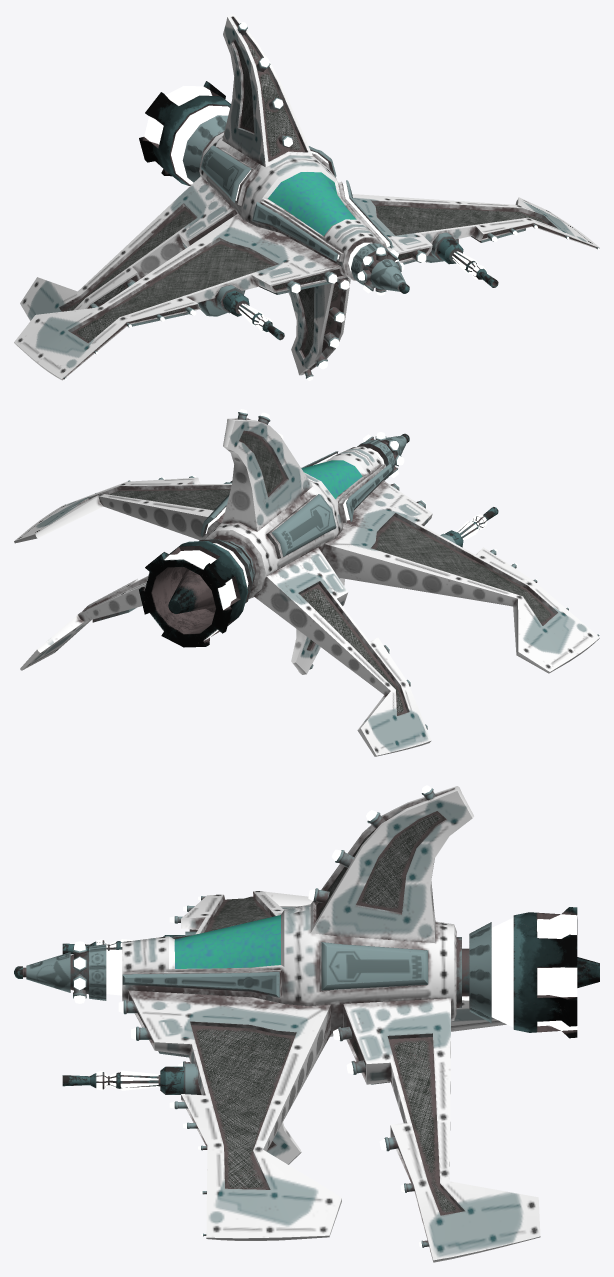
Rendered from Enemy13.fbx.
3 renders of one model, top to bottom at view 1: azimuth 30°, elevation 25°; view 2: azimuth 150°, elevation 25°; view 3: azimuth 270°, elevation 25°, orthographic. The views are drawn at different scales.
Parts seen in each view (by area): view 1: Enemy13; view 2: Enemy13; view 3: Enemy13.
Part boxes in pixels (bbox=[...]): Enemy13: bbox=[14, 14, 599, 380]; Enemy13: bbox=[14, 409, 599, 756]; Enemy13: bbox=[14, 785, 599, 1262].
Size of the model in its own units: 355 by 194 by 264.
